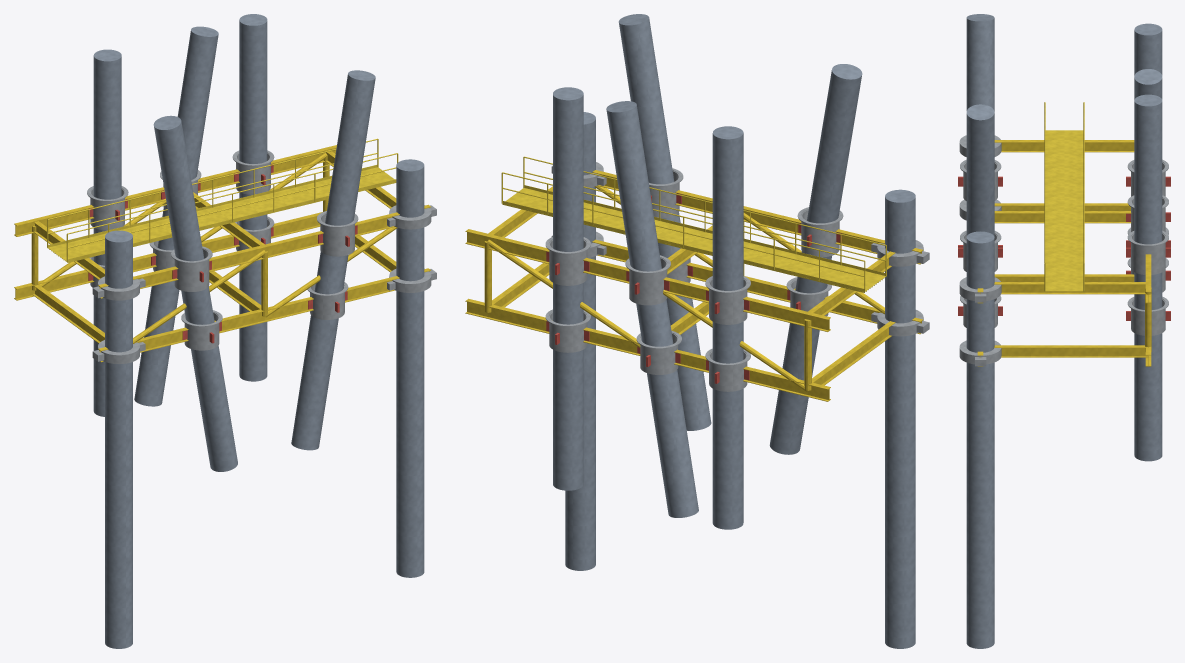
File: pile-guide-frames-and-templates.glb
3 renders of one model, left to right at view 1: azimuth 30°, elevation 25°; view 2: azimuth 150°, elevation 25°; view 3: azimuth 270°, elevation 25°, orthographic. The views are drawn at different scales.
Visible parts, largest first — view 1: Piles(context), TemplateFrame, Walkway&Handrails, GuideSleeves, PileClamps, AdjustmentRollers; view 2: Piles(context), TemplateFrame, GuideSleeves, Walkway&Handrails, PileClamps, AdjustmentRollers; view 3: Piles(context), TemplateFrame, Walkway&Handrails, GuideSleeves, PileClamps, AdjustmentRollers.
Part boxes in pixels (box(x1,y1,x2,y2)): Piles(context): box(93, 14, 424, 648); TemplateFrame: box(14, 145, 430, 362); Walkway&Handrails: box(47, 138, 398, 262); GuideSleeves: box(87, 150, 358, 350); PileClamps: box(92, 205, 436, 363); AdjustmentRollers: box(88, 163, 357, 343); Piles(context): box(553, 14, 915, 648); TemplateFrame: box(465, 170, 923, 401); GuideSleeves: box(545, 168, 843, 391); Walkway&Handrails: box(501, 156, 886, 292); PileClamps: box(551, 162, 929, 336); AdjustmentRollers: box(546, 193, 841, 383); Piles(context): box(966, 14, 1162, 648); TemplateFrame: box(977, 140, 1151, 366); Walkway&Handrails: box(1044, 102, 1084, 291); GuideSleeves: box(960, 159, 1168, 335); PileClamps: box(959, 135, 1001, 366); AdjustmentRollers: box(958, 176, 1170, 320).
Size of the model in its own units: 13.95 by 20.08 by 7.61.
5 materials, 5 textured.
